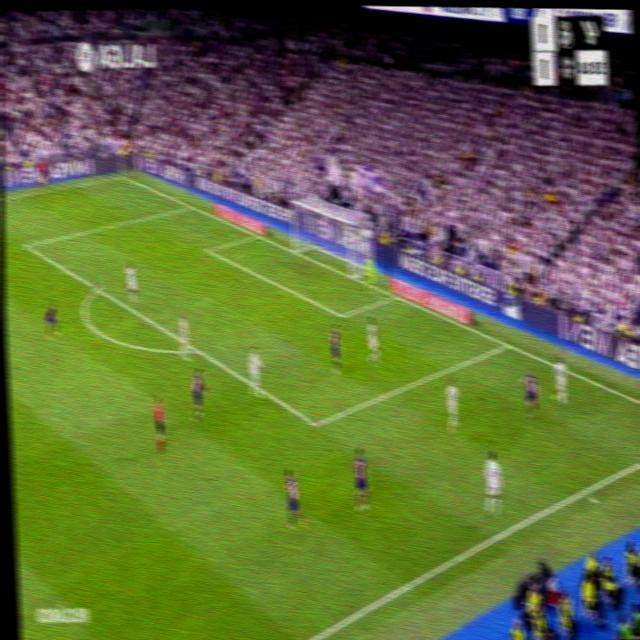bigarea_bottom_inner: (308, 411, 322, 435)
bigarea_top_inner: (22, 238, 31, 252)
bigarea_top_outter: (185, 198, 194, 211)
bottom_arc_area_intersection: (192, 342, 200, 355)
corner: (116, 169, 126, 179)
smallarea_bottom_inner: (335, 306, 348, 324)
smallarea_bottom_outter: (390, 288, 399, 301)
smallarea_top_inner: (205, 243, 211, 254)
top_arc_area_intersection: (90, 278, 102, 296)
